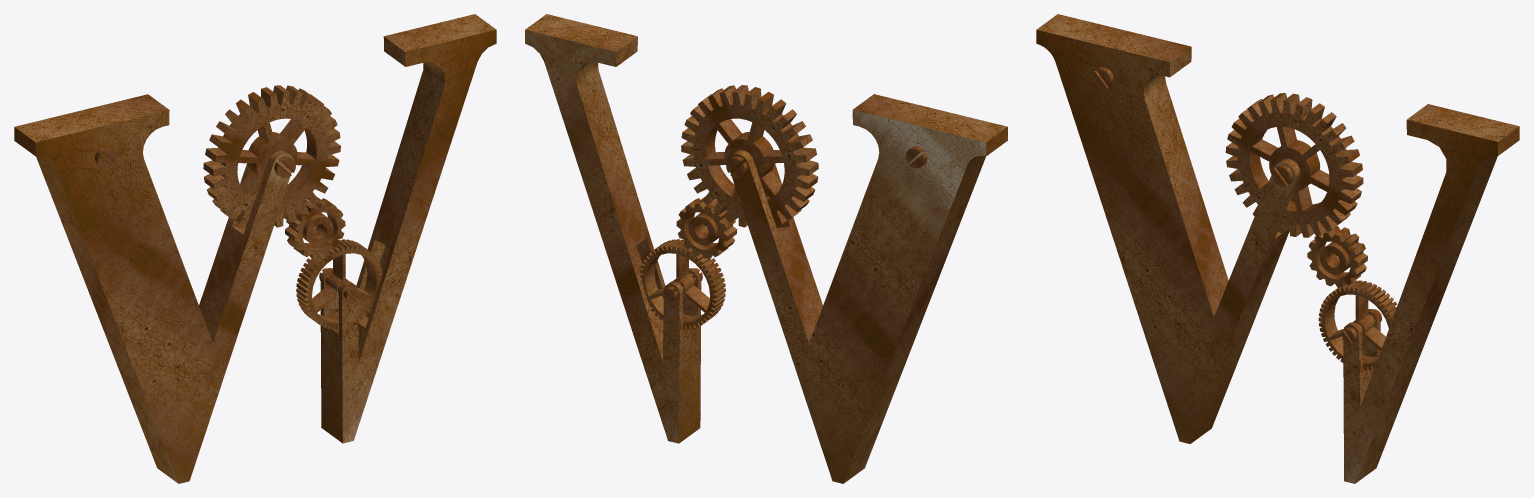
3 views of the same model, side by side, from view 1: azimuth 30°, elevation 25°; view 2: azimuth 150°, elevation 25°; view 3: azimuth 330°, elevation 25° (orthographic).
Parts seen in each view (by area): view 1: W, Cogwheel_251, Cogwheel_249, Cogwheel_256; view 2: W, Cogwheel_251, Cogwheel_249, Cogwheel_256; view 3: W, Cogwheel_251, Cogwheel_249, Cogwheel_256.
Part boxes in pixels (x1,y1,x2,y2): W: (14,14,496,483); Cogwheel_251: (203,85,340,227); Cogwheel_249: (296,239,382,329); Cogwheel_256: (285,197,345,258); W: (525,14,1007,483); Cogwheel_251: (681,85,818,227); Cogwheel_249: (639,239,725,329); Cogwheel_256: (676,197,737,258); W: (1036,14,1519,483); Cogwheel_251: (1225,93,1363,237); Cogwheel_249: (1318,280,1397,370); Cogwheel_256: (1307,226,1367,287).
Size of the model in its own units: 124 by 96.77 by 12.89.
Materials: 1 (1 with a texture image).
